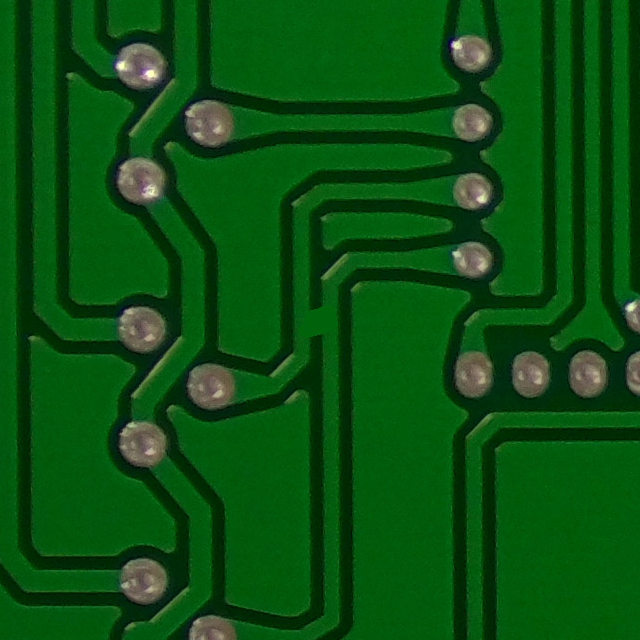short: (290, 288, 350, 352)
